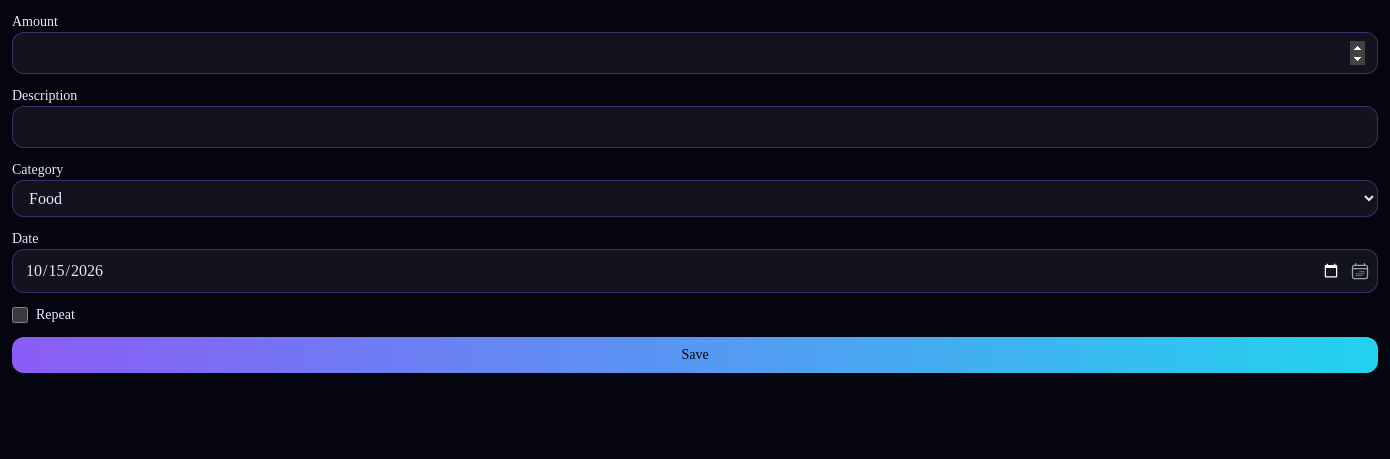
ExpenseForm › shows the interval select only when Repeat is checked
Expected: the field labelled "repeat interval" is not shown
What coordinates should you click on to do the following:
click the checkbox labelled "Repeat"
I would click on:
 (20, 315)
Its box is [12, 307, 28, 323].
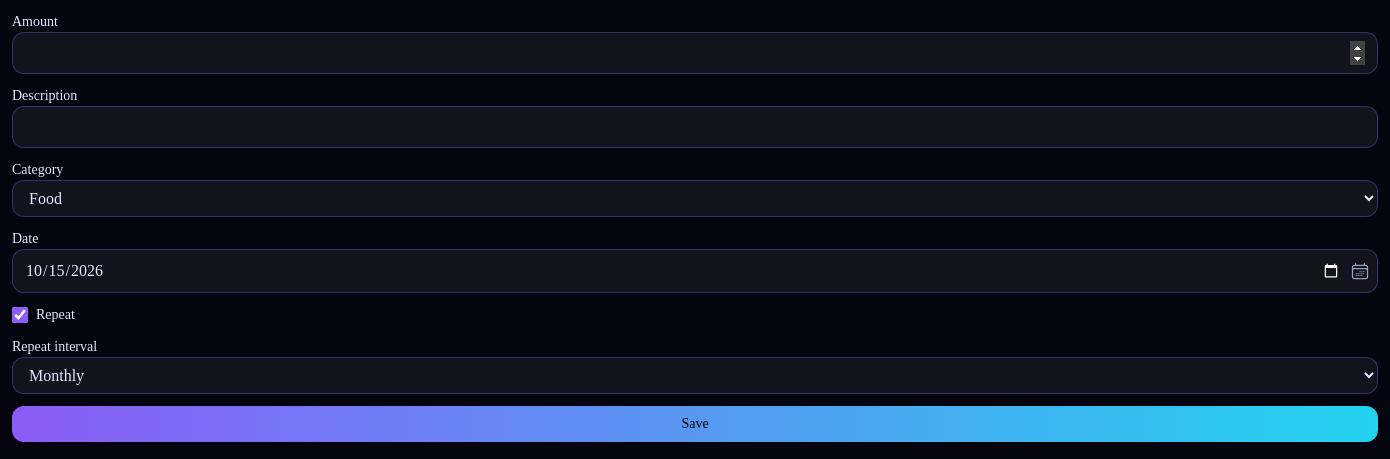
Expected: the dropdown labelled "Repeat interval" is shown, [12, 357, 1378, 394]
